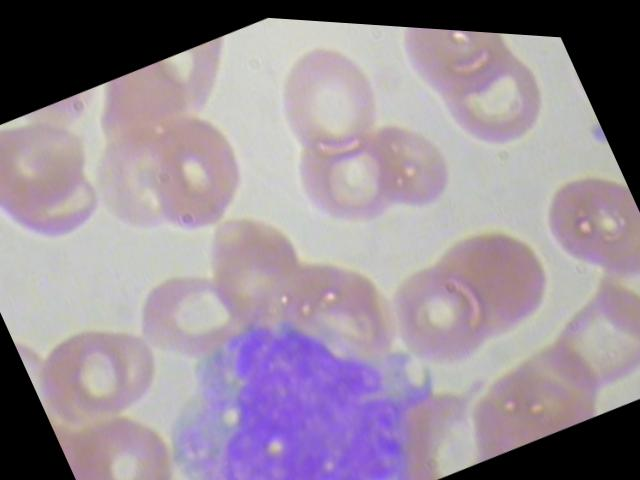Red Blood Cells: (26, 298, 181, 443), (122, 94, 266, 250), (258, 25, 398, 170), (278, 102, 418, 247), (380, 243, 512, 382), (430, 26, 560, 163), (123, 248, 254, 381), (528, 254, 639, 408), (526, 145, 639, 296), (0, 100, 108, 239), (349, 98, 464, 221), (54, 384, 199, 479), (388, 20, 529, 112)
White Blood Cells: (127, 242, 475, 479)
